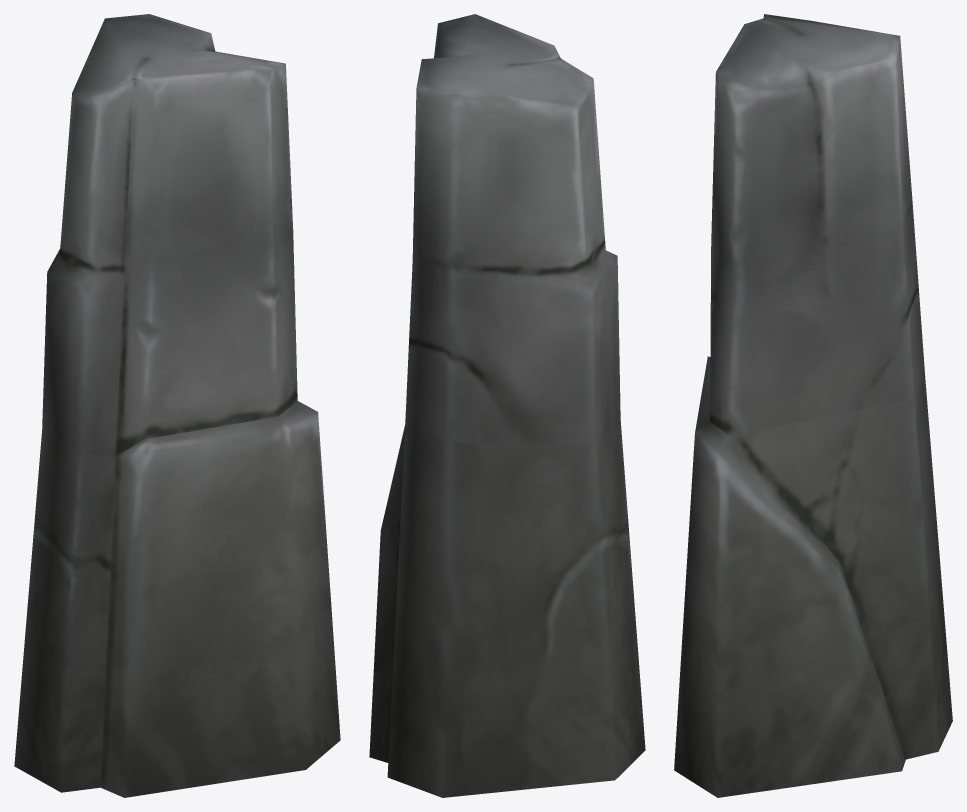
File: Rock_formation4.fbx
The picture shows the model from 3 angles, left to right: view 1: azimuth 30°, elevation 25°; view 2: azimuth 150°, elevation 25°; view 3: azimuth 270°, elevation 25°; orthographic projection.
Visible parts, largest first — view 1: rock_lp_10; view 2: rock_lp_10; view 3: rock_lp_10.
Boxes of the visible parts, x1=… form: rock_lp_10: x1=14, y1=14, x2=340, y2=797; rock_lp_10: x1=369, y1=14, x2=645, y2=797; rock_lp_10: x1=674, y1=14, x2=952, y2=797.
Size of the model in its own units: 1.09 by 2.66 by 0.97.
